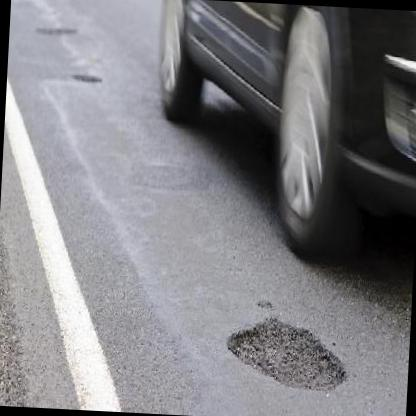pothole: (222, 314, 350, 397)
